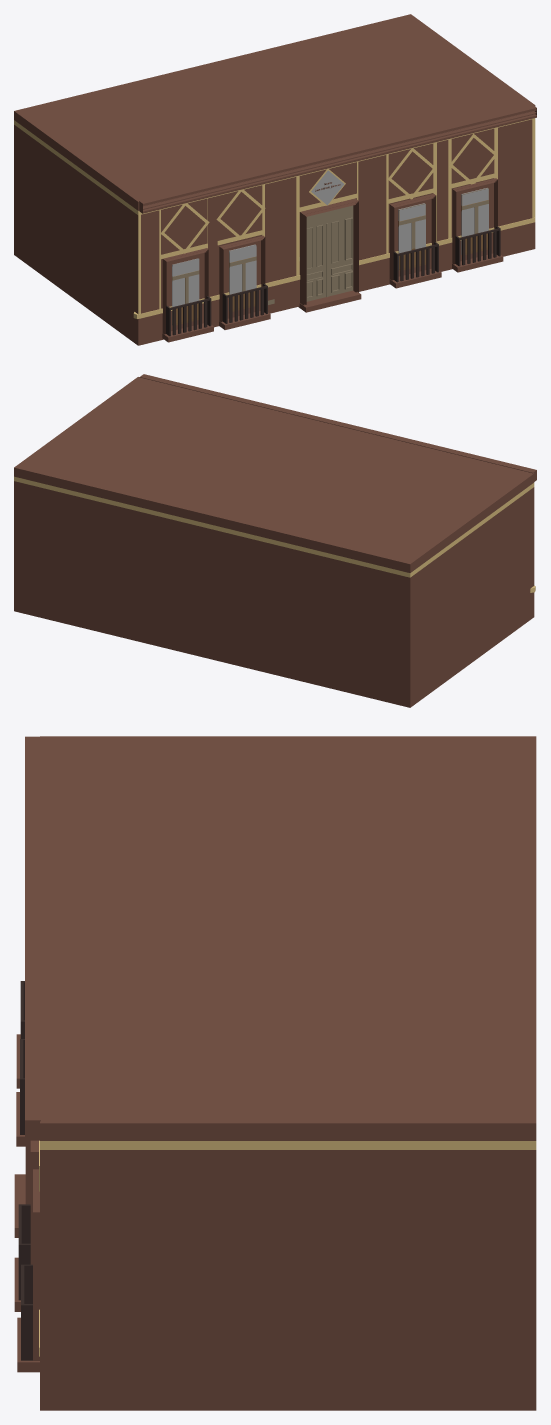
The model's file is museooo.fbx.
3 views of the same model, one above another, from view 1: azimuth 30°, elevation 25°; view 2: azimuth 150°, elevation 25°; view 3: azimuth 270°, elevation 25° (orthographic). The views are drawn at different scales.
Parts seen in each view (by area): view 1: pCube23; view 2: pCube23; view 3: pCube23.
Part boxes in pixels (x1=…): pCube23: x1=14, y1=14, x2=536, y2=345; pCube23: x1=14, y1=374, x2=536, y2=707; pCube23: x1=14, y1=736, x2=536, y2=1410.
Bounding box in the file's own units: 41.14 × 15.32 × 23.3.
